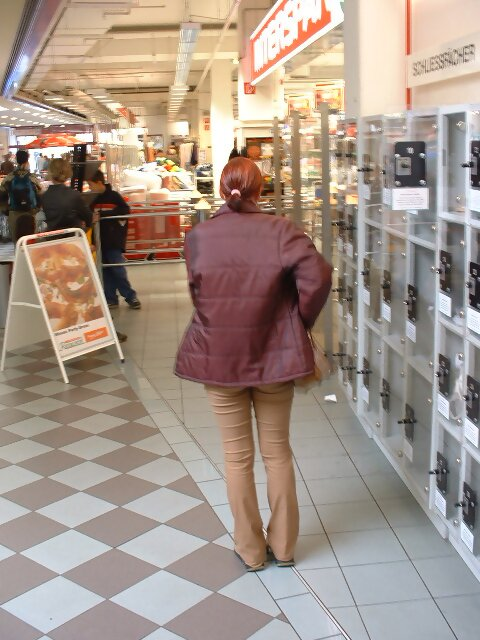person: (180, 153, 331, 570)
